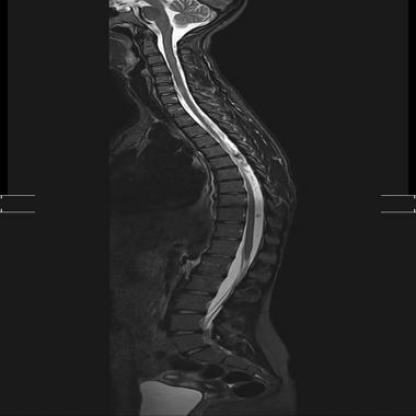Disc Bulgerotation: (216, 202, 246, 212), (218, 188, 244, 199), (217, 175, 239, 185), (152, 71, 171, 81)
